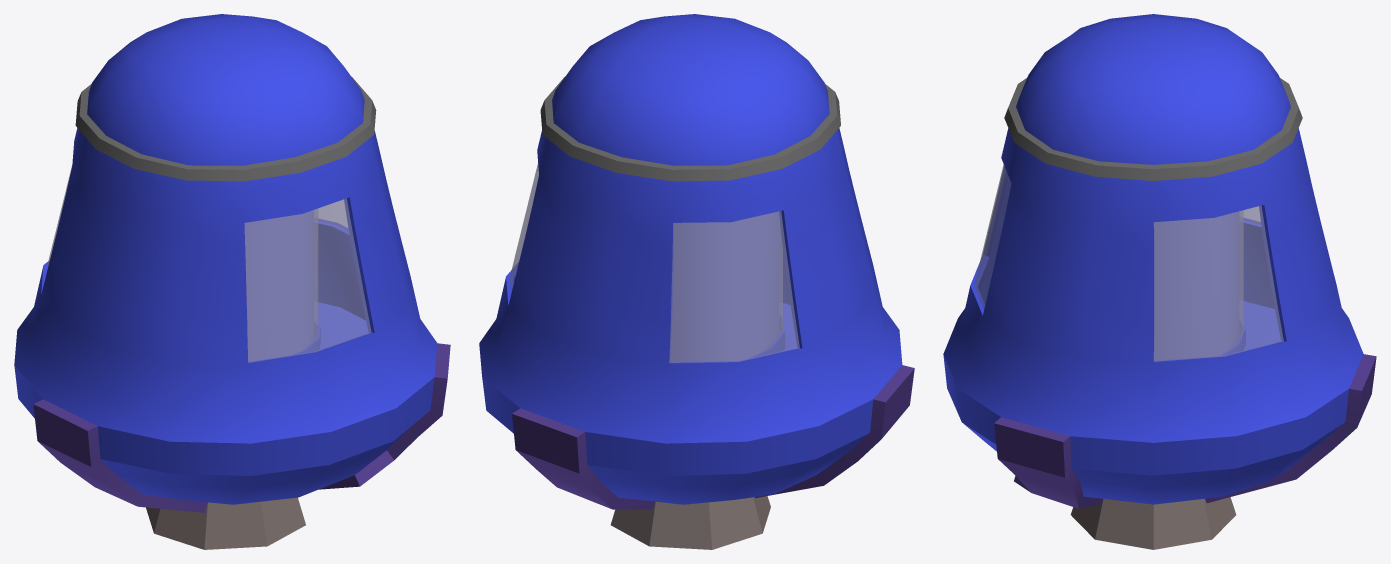
The model's file is Spaceship.glb.
3 views of the same model, side by side, from view 1: azimuth 30°, elevation 25°; view 2: azimuth 150°, elevation 25°; view 3: azimuth 270°, elevation 25° (orthographic).
Visible parts, largest first — view 1: Cube; view 2: Cube; view 3: Cube.
Part boxes in pixels (x1,y1,x2,y2): Cube: [14, 14, 450, 549]; Cube: [479, 14, 914, 549]; Cube: [943, 14, 1376, 549].
Bounding box in the file's own units: 1.7 × 2.08 × 1.7.
